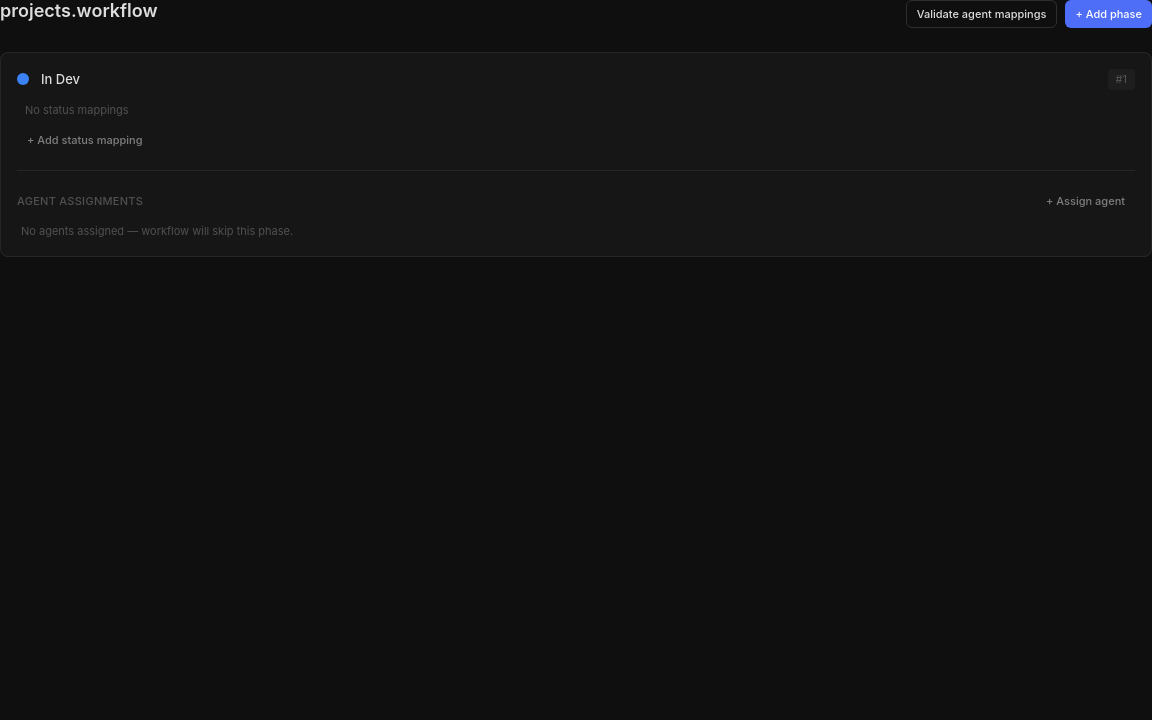
Test case: WorkflowPage — Phase-Agent Mapping UI › Agent dropdown filters by supported phases (Req 2.2) › shows "No compatible agents" when no agents support the phase
Click the button "+ Assign agent".
click(1086, 201)  # box [1036, 187, 1135, 215]
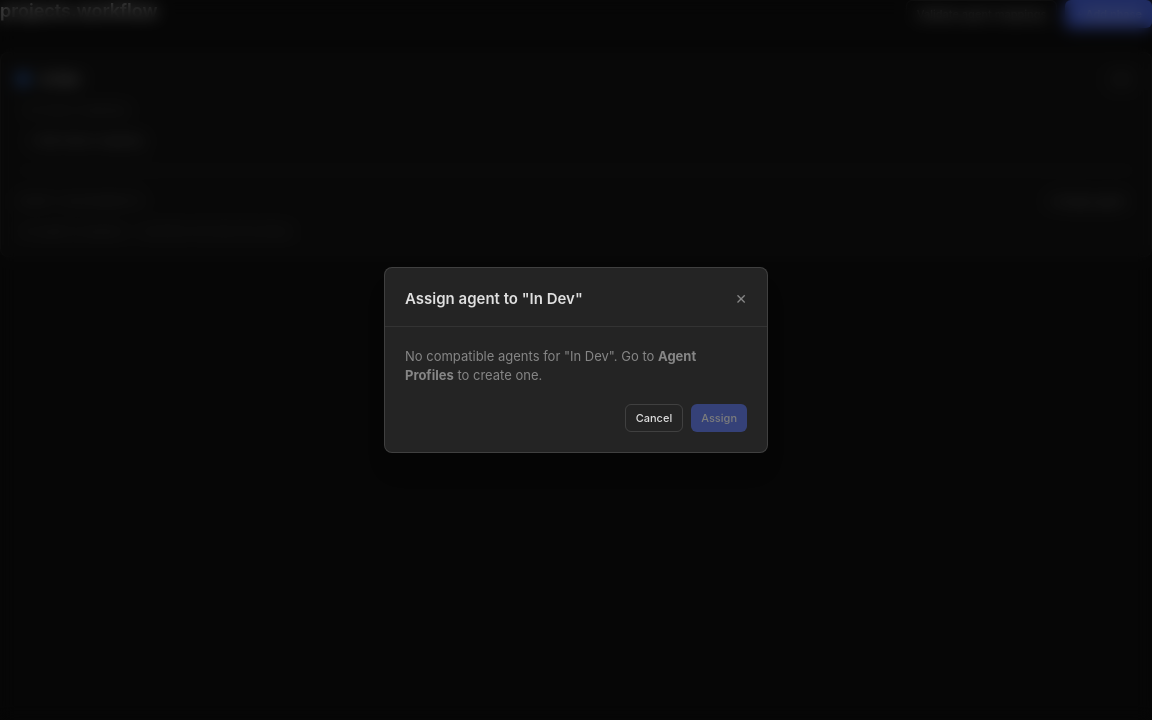
Expected: the text "No compatible agents" is shown, [405, 348, 570, 364]
